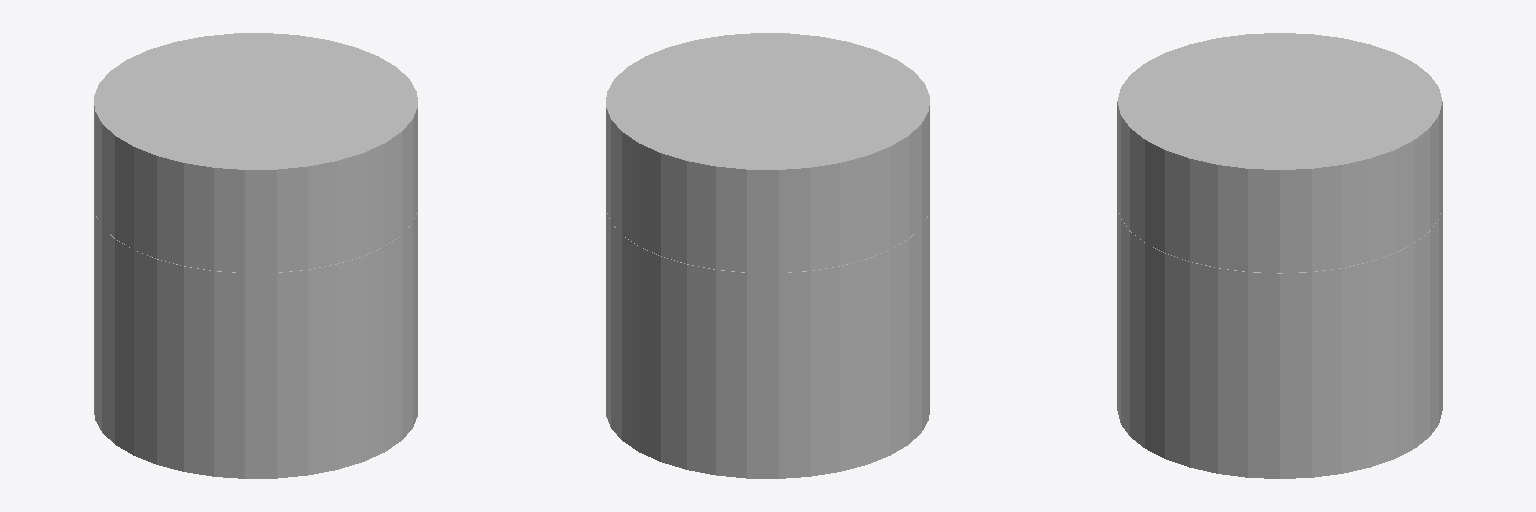
Rendered from object_car.obj.
3 views of the same model, side by side, from view 1: azimuth 30°, elevation 25°; view 2: azimuth 150°, elevation 25°; view 3: azimuth 270°, elevation 25° (orthographic).
Parts seen in each view (by area): view 1: 柱体.002, 柱体, 柱体.001; view 2: 柱体.002, 柱体, 柱体.001; view 3: 柱体.002, 柱体, 柱体.001.
Part boxes in pixels (x1,y1,x2,y2): 柱体.002: (94, 33, 417, 272); 柱体: (94, 209, 417, 376); 柱体.001: (94, 312, 417, 478); 柱体.002: (606, 33, 929, 272); 柱体: (606, 209, 929, 376); 柱体.001: (606, 312, 929, 478); 柱体.002: (1117, 33, 1442, 272); 柱体: (1117, 205, 1442, 376); 柱体.001: (1117, 308, 1442, 478).
Size of the model in its own units: 2 by 2.1 by 2.